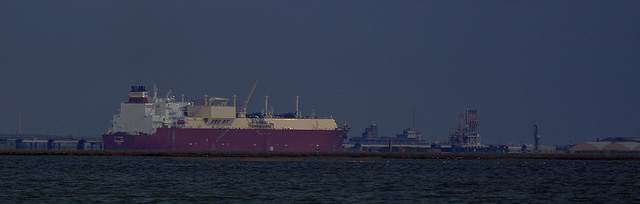LNG_ship: (101, 89, 350, 153)
